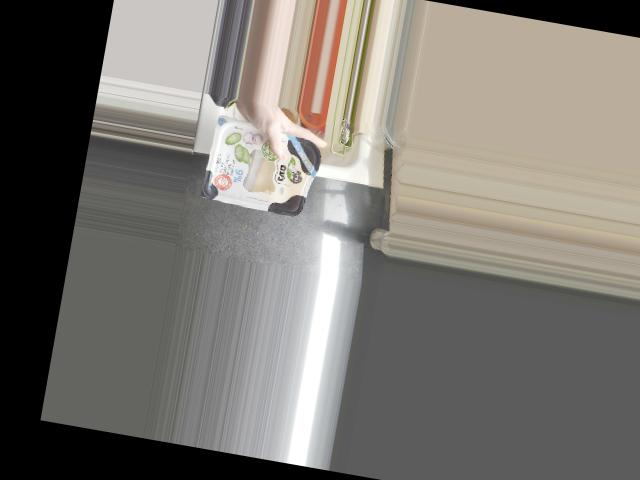cheese: (204, 115, 325, 218)
